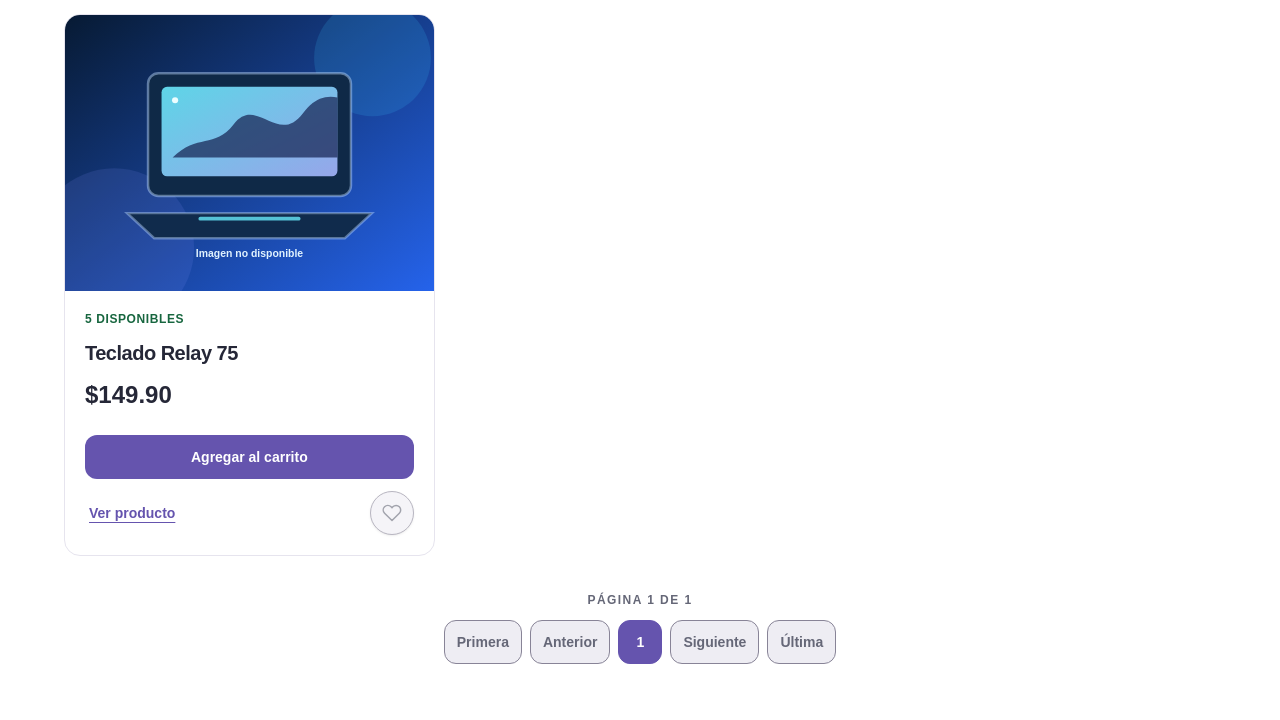
Test case: customer wishlist UI › adds an available wish to the cart, updates the badge and keeps the wish
The image size is (1280, 720).
(page scrolled)
Step 1. Click the button with aria-label "Agregar Teclado Relay 75 al carrito desde deseos" → (249, 457), box [85,435,414,479]
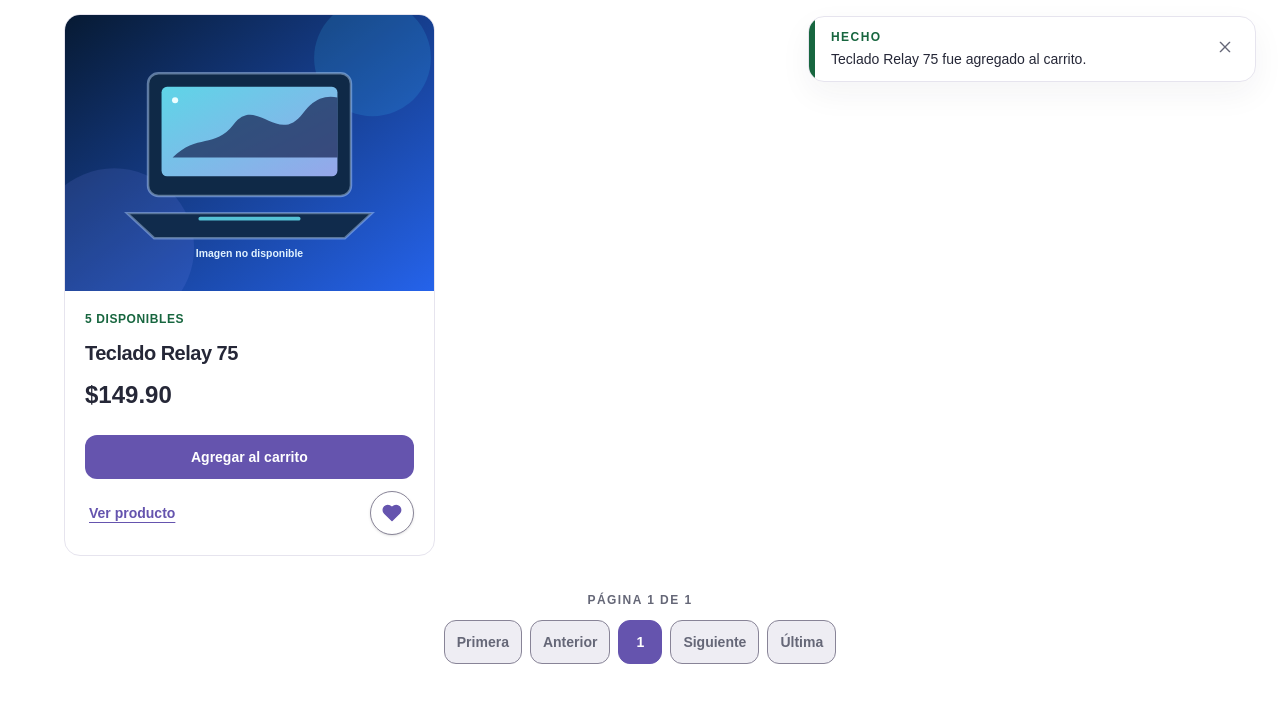
Check: the heading "Teclado Relay 75" is shown, box [85,342,238,364]
Check: the text "Teclado Relay 75 fue agregado al carrito." is shown, box [831,51,1086,67]
